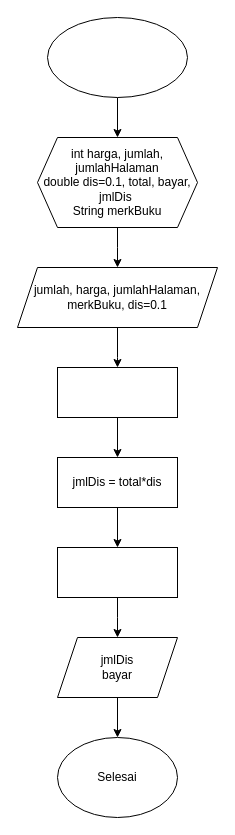
The diagram is 235 pixels wide and 835 high, and some of its shapes have lost their labels. Here are the shapes that lost their labels. From the top down, the centre of each, then its label:
[117,57]: Mulai
[117,392]: total = harga*jumlah
[117,572]: bayar = total-jmlDis
